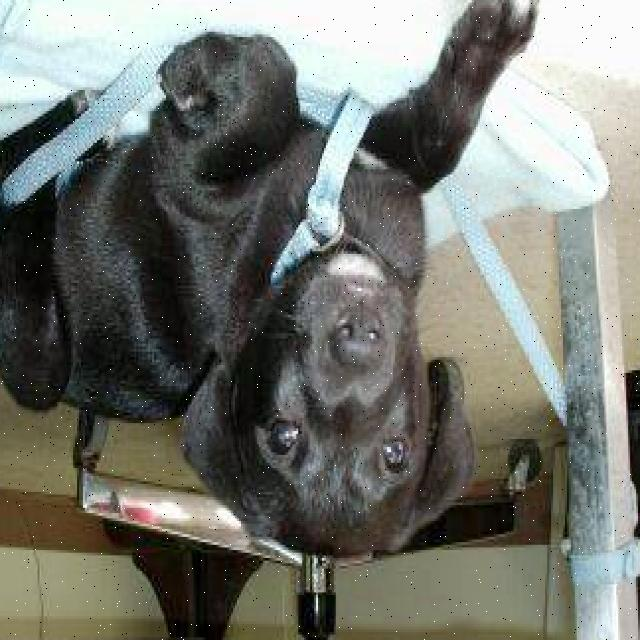Dog: (185, 251, 477, 564)
